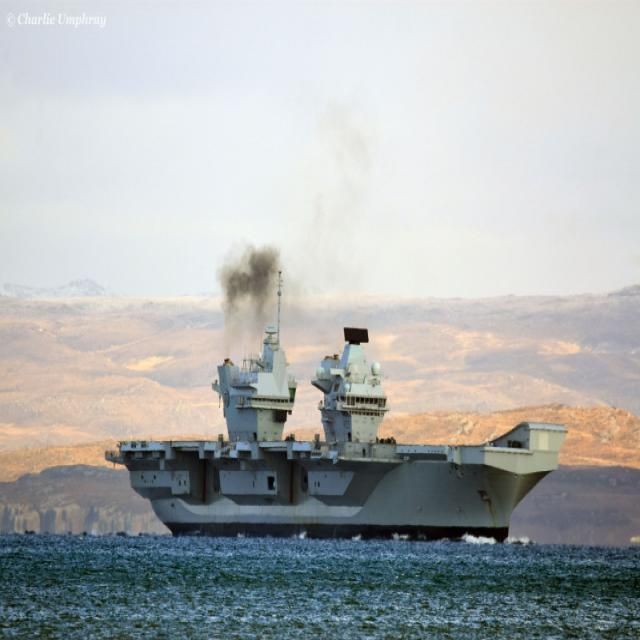Portanaves: (98, 289, 567, 546)
